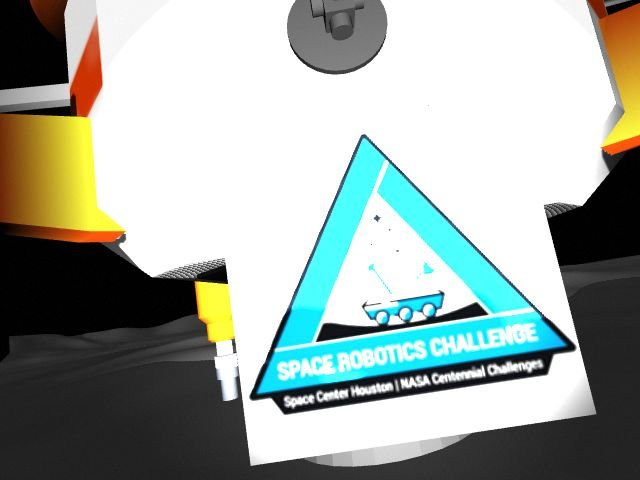basemarker: (249, 134, 578, 416)
